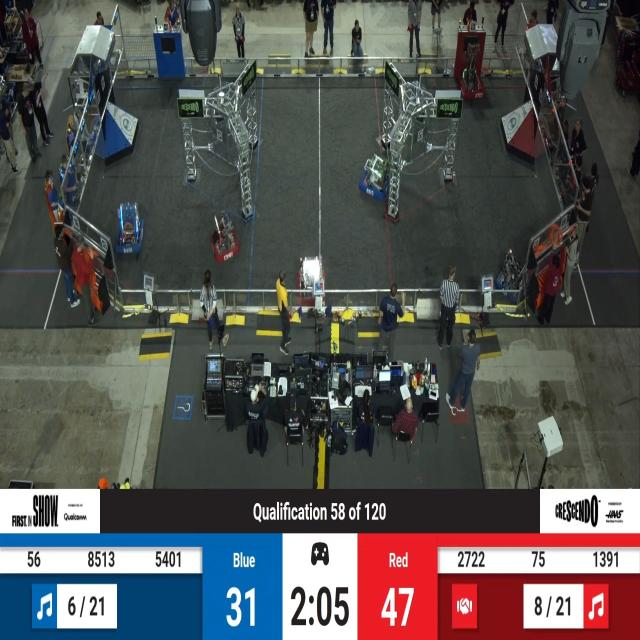Robot: (457, 34, 489, 113), (295, 248, 332, 305), (494, 242, 528, 304), (117, 198, 147, 258), (208, 211, 239, 267)
